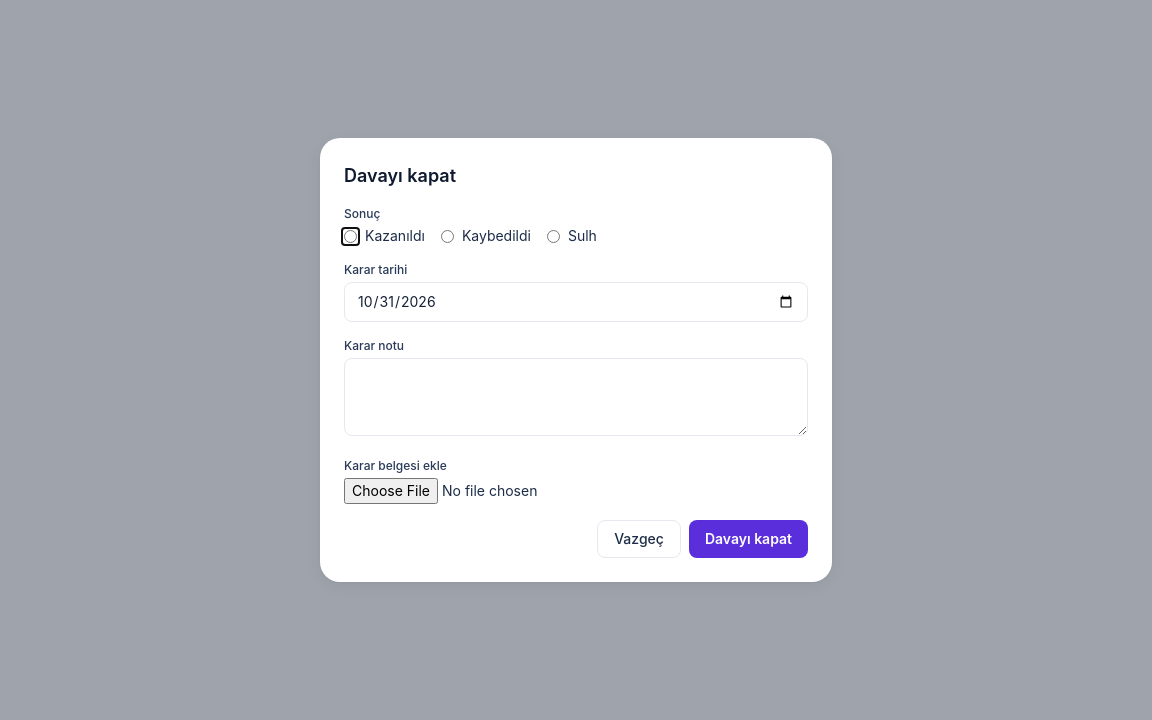
Test: CaseCloseModal › asks for an outcome before sending
Click the button "Davayı kapat": click(748, 539) [689,520,808,558]
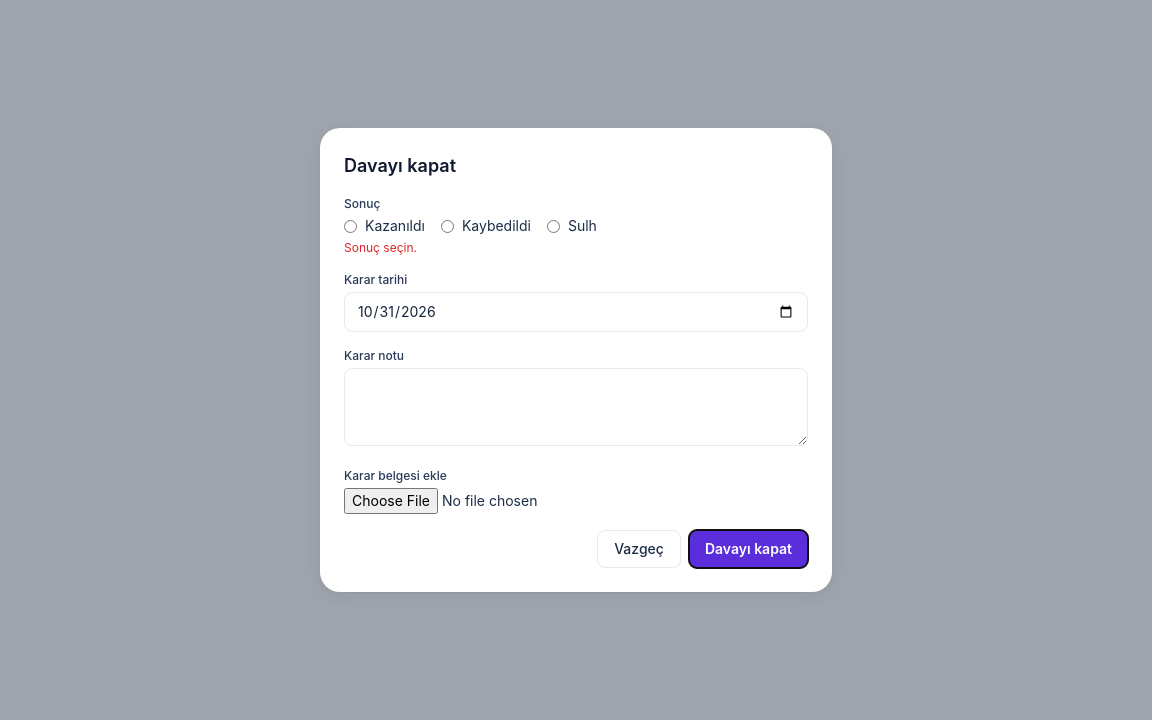
expect the text "Sonuç seçin." is shown: met, box [344,240,417,255]
